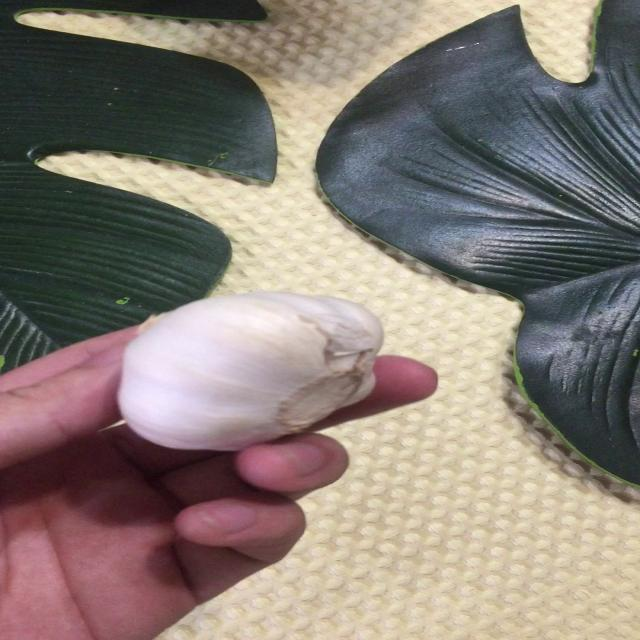garlic: (113, 288, 389, 455)
